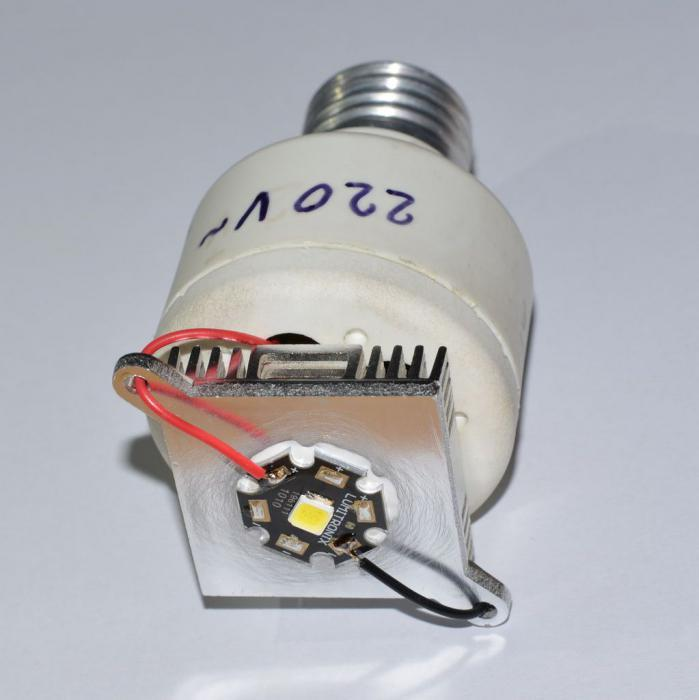Light_bulb: (124, 55, 554, 628)
